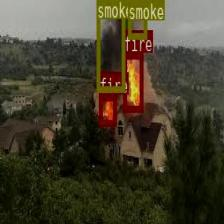fire: (122, 52, 142, 110), (99, 94, 116, 124)
smoke: (96, 0, 124, 91), (127, 0, 145, 37)
